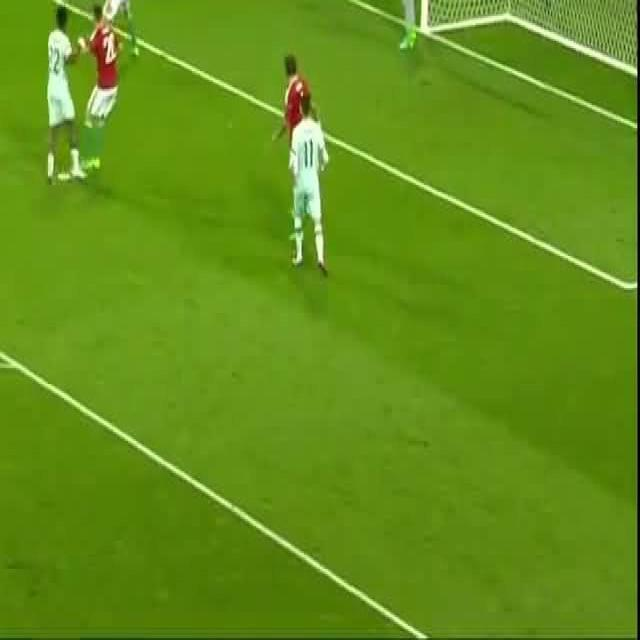player-white: (44, 5, 86, 182), (288, 95, 328, 278), (76, 5, 119, 175), (271, 54, 315, 218), (101, 0, 139, 62), (395, 0, 419, 54)
